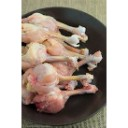chicken_lollipop: (22, 15, 96, 63), (29, 63, 99, 107)
